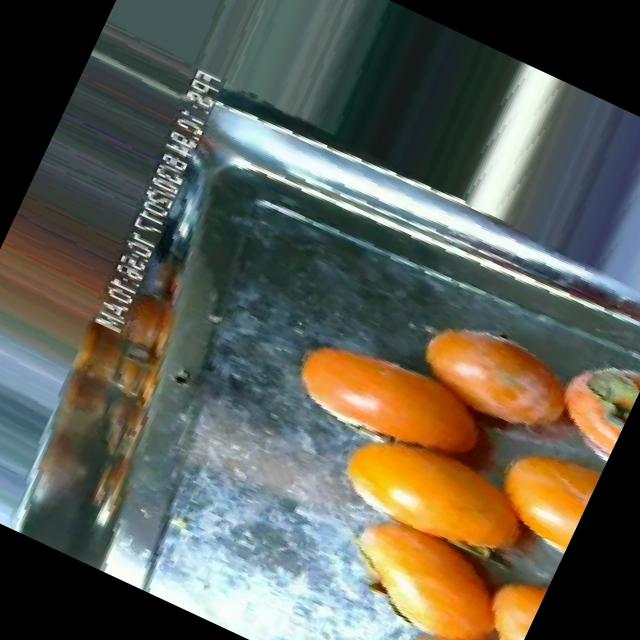Fruit: (394, 296, 596, 466), (274, 312, 442, 454), (474, 421, 606, 553)
